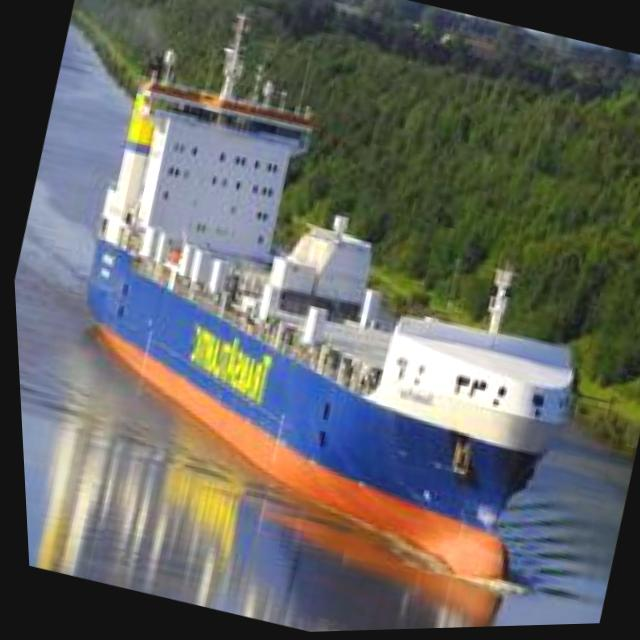ship2: (81, 15, 571, 586)
